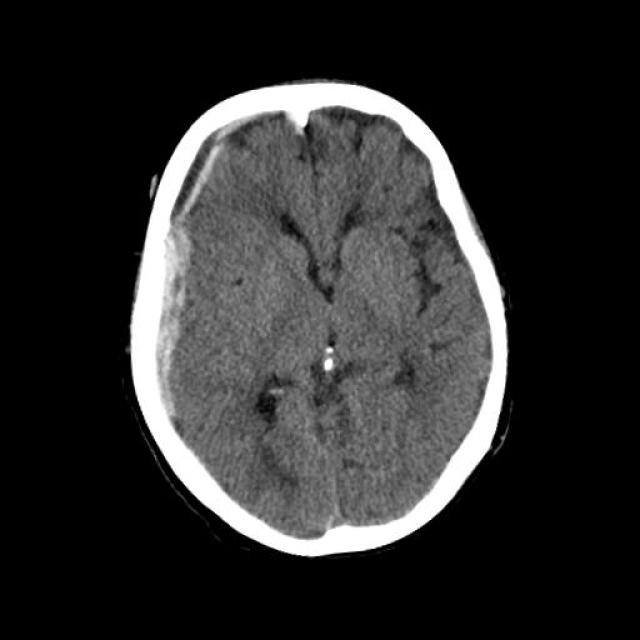Subdural: (94, 117, 288, 428)
